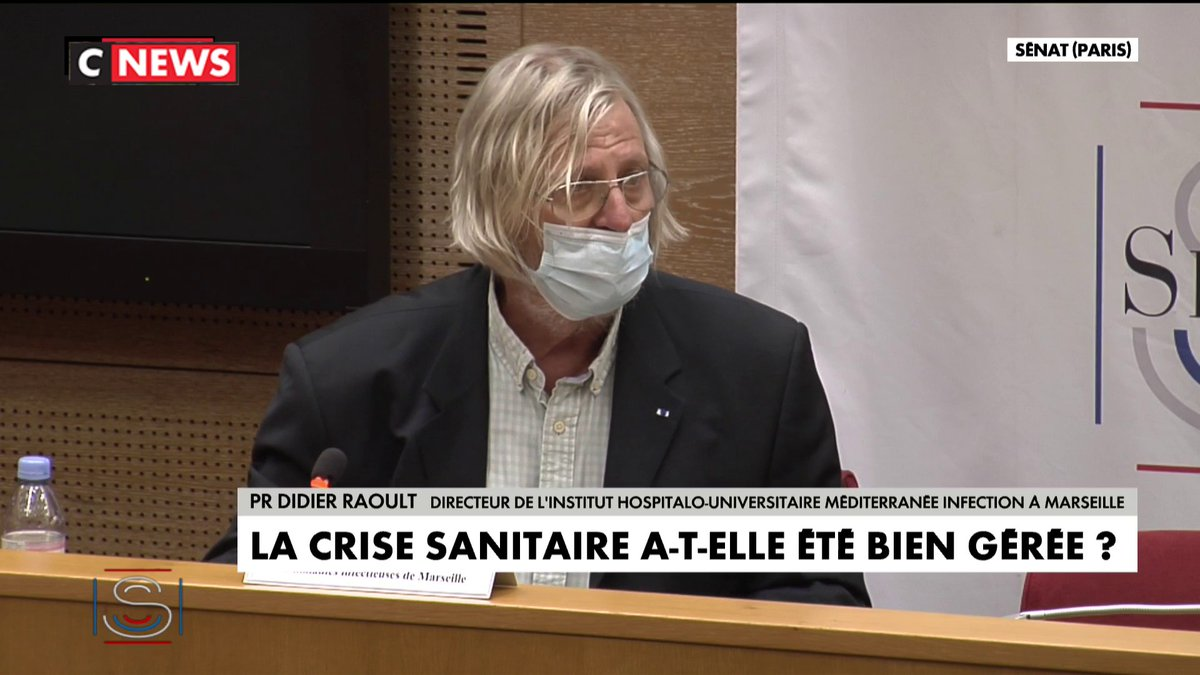with_incorrect_mask: (519, 148, 664, 323)
